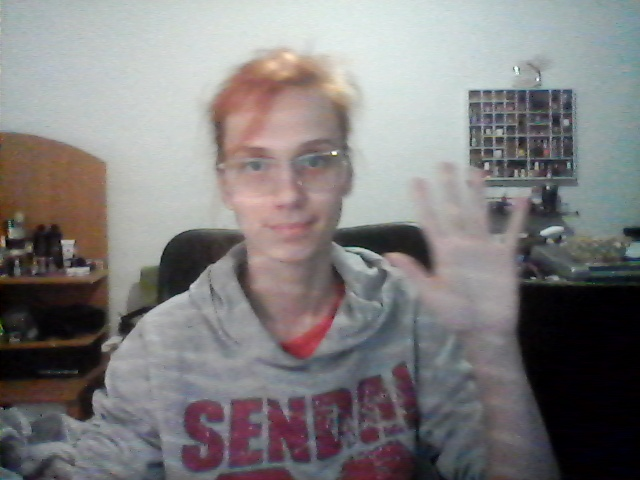ahoj: (383, 164, 536, 336)
